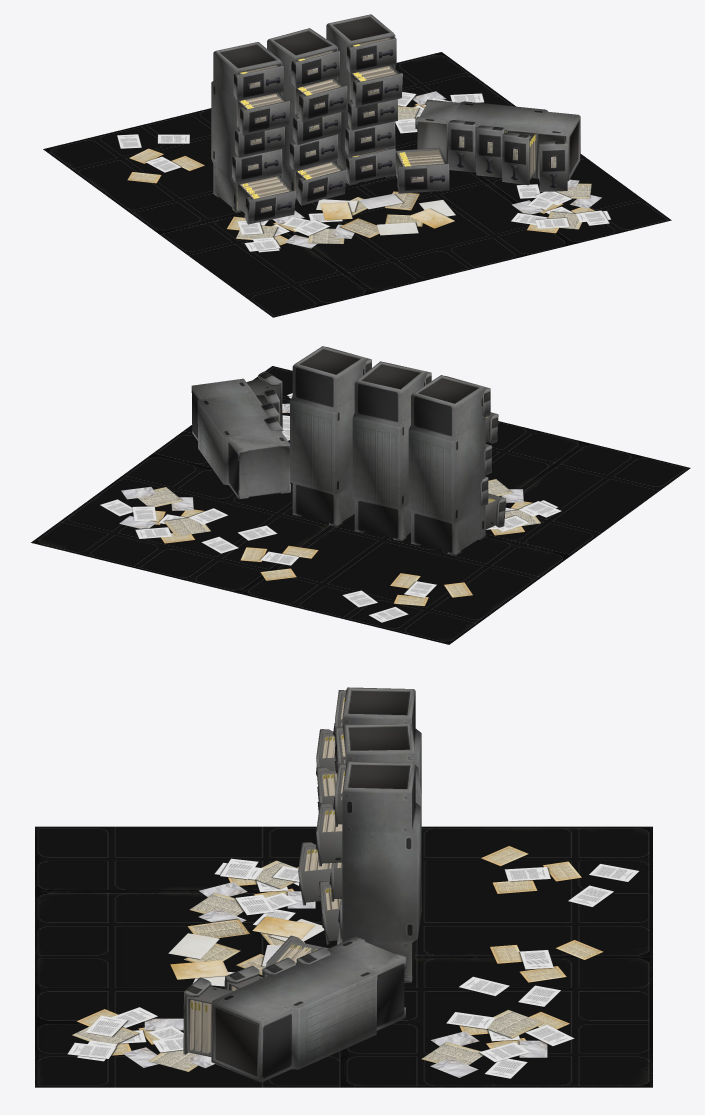
The model's file is prop_filing_cabinets.glb.
The picture shows the model from 3 angles, top to bottom: view 1: azimuth 30°, elevation 25°; view 2: azimuth 150°, elevation 25°; view 3: azimuth 270°, elevation 25°; orthographic projection. The views are drawn at different scales.
Parts seen in each view (by area): view 1: Plane, bakeObject.065_low.005, bakeObject.065_low.002, Plane.003, Plane.001, Plane.005, bakeObject.065_low.003, bakeObject.065_low.004, bakeObject.008_low.005, bakeObject.008_low.002, Plane.006, bakeObject.005_low.004 (+18 smaller); view 2: Plane, bakeObject.065_low.002, bakeObject.065_low.004, bakeObject.065_low.003, bakeObject.065_low.005, Plane.002, Plane.004, Plane.006, Plane.005, bakeObject.009_low.005, bakeObject.008_low.002; view 3: Plane, bakeObject.065_low.005, bakeObject.065_low.004, Plane.002, Plane.001, Plane.003, Plane.005, Plane.006, Plane.004, bakeObject.065_low.002, bakeObject.065_low.003, bakeObject.009_low.005 (+6 smaller).
Boxes of the visible parts, bbox=[...] form: Plane: bbox=[43, 52, 671, 317]; bakeObject.065_low.005: bbox=[415, 99, 580, 180]; bakeObject.065_low.002: bbox=[211, 42, 282, 213]; Plane.003: bbox=[316, 191, 456, 238]; Plane.001: bbox=[511, 179, 611, 233]; Plane.005: bbox=[227, 210, 355, 252]; bakeObject.065_low.003: bbox=[267, 28, 337, 200]; bakeObject.065_low.004: bbox=[326, 14, 395, 185]; bakeObject.008_low.005: bbox=[395, 147, 449, 193]; bakeObject.008_low.002: bbox=[238, 176, 295, 224]; Plane.006: bbox=[117, 134, 204, 183]; bakeObject.005_low.004: bbox=[351, 65, 402, 107]; Plane: bbox=[31, 366, 690, 644]; bakeObject.065_low.002: bbox=[408, 375, 485, 555]; bakeObject.065_low.004: bbox=[290, 346, 366, 526]; bakeObject.065_low.003: bbox=[352, 361, 427, 541]; bakeObject.065_low.005: bbox=[191, 378, 290, 499]; Plane.002: bbox=[99, 486, 227, 543]; Plane.004: bbox=[201, 525, 318, 580]; Plane.006: bbox=[341, 573, 472, 622]; Plane.005: bbox=[486, 478, 561, 535]; bakeObject.009_low.005: bbox=[246, 371, 282, 429]; bakeObject.008_low.002: bbox=[485, 493, 506, 529]; Plane: bbox=[35, 826, 652, 1087]; bakeObject.065_low.005: bbox=[211, 936, 406, 1082]; bakeObject.065_low.004: bbox=[342, 761, 421, 982]; Plane.002: bbox=[420, 1010, 574, 1078]; Plane.001: bbox=[67, 1007, 215, 1072]; Plane.003: bbox=[167, 916, 324, 986]; Plane.005: bbox=[188, 858, 315, 925]; Plane.006: bbox=[481, 846, 640, 907]; Plane.004: bbox=[458, 940, 603, 1007]; bakeObject.065_low.002: bbox=[342, 687, 421, 806]; bakeObject.065_low.003: bbox=[343, 723, 421, 806]; bakeObject.009_low.005: bbox=[183, 977, 233, 1056].
Size of the model in its own units: 6.82 by 2.16 by 6.86.
Materials: 6 (6 with a texture image).
